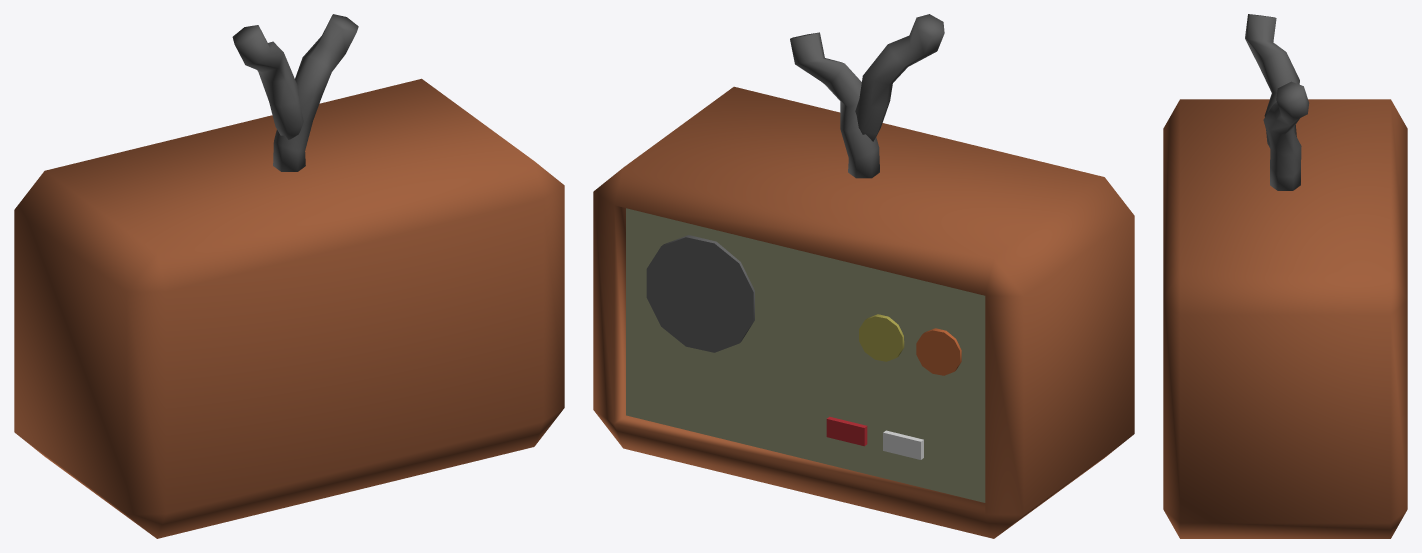
File: OfficeandEnv_Radio.fbx
3 views of the same model, side by side, from view 1: azimuth 30°, elevation 25°; view 2: azimuth 150°, elevation 25°; view 3: azimuth 270°, elevation 25° (orthographic). The views are drawn at different scales.
Visible parts, largest first — view 1: Radio; view 2: Radio; view 3: Radio.
Part boxes in pixels (left/top/right/bottom): Radio: left=14, top=14, right=564, bottom=538; Radio: left=593, top=14, right=1134, bottom=538; Radio: left=1163, top=14, right=1407, bottom=538.
Size of the model in its own units: 69.07 by 67.12 by 35.69.
